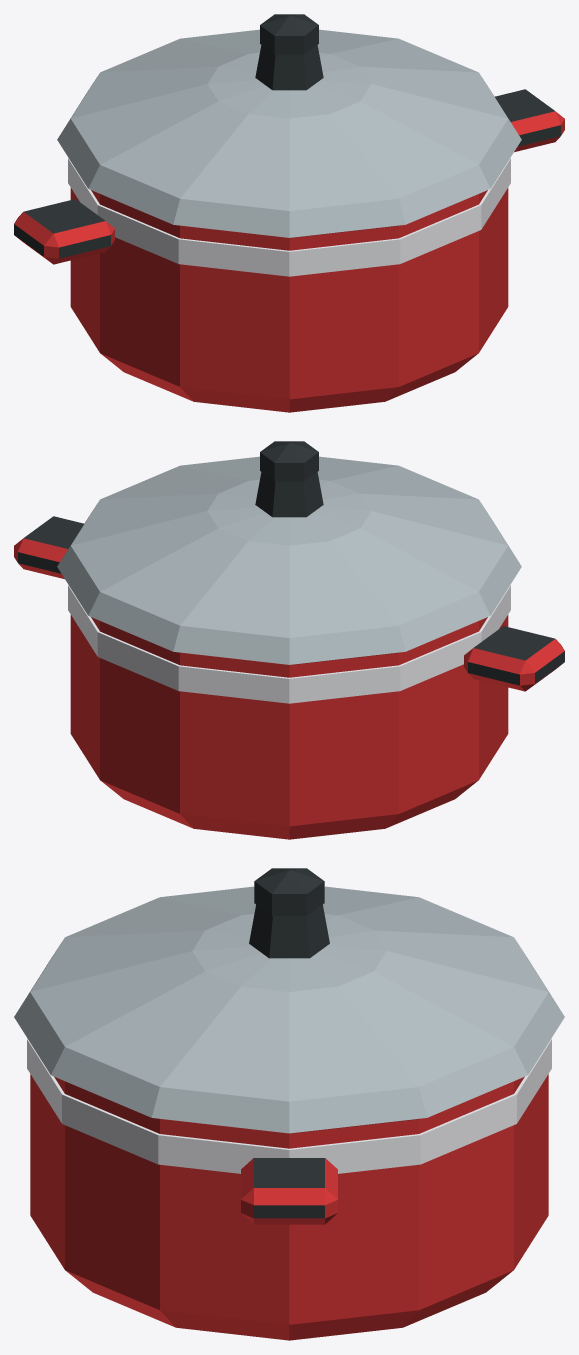
The model's file is kochtopf.glb.
The picture shows the model from 3 angles, top to bottom: view 1: azimuth 30°, elevation 25°; view 2: azimuth 150°, elevation 25°; view 3: azimuth 270°, elevation 25°; orthographic projection. The views are drawn at different scales.
Parts seen in each view (by area): view 1: kochtopf-m; view 2: kochtopf-m; view 3: kochtopf-m.
Part boxes in pixels (x1=…): kochtopf-m: x1=14, y1=14, x2=564, y2=412; kochtopf-m: x1=14, y1=441, x2=564, y2=839; kochtopf-m: x1=14, y1=868, x2=564, y2=1340.
Size of the model in its own units: 0.44 by 0.255 by 0.34.
